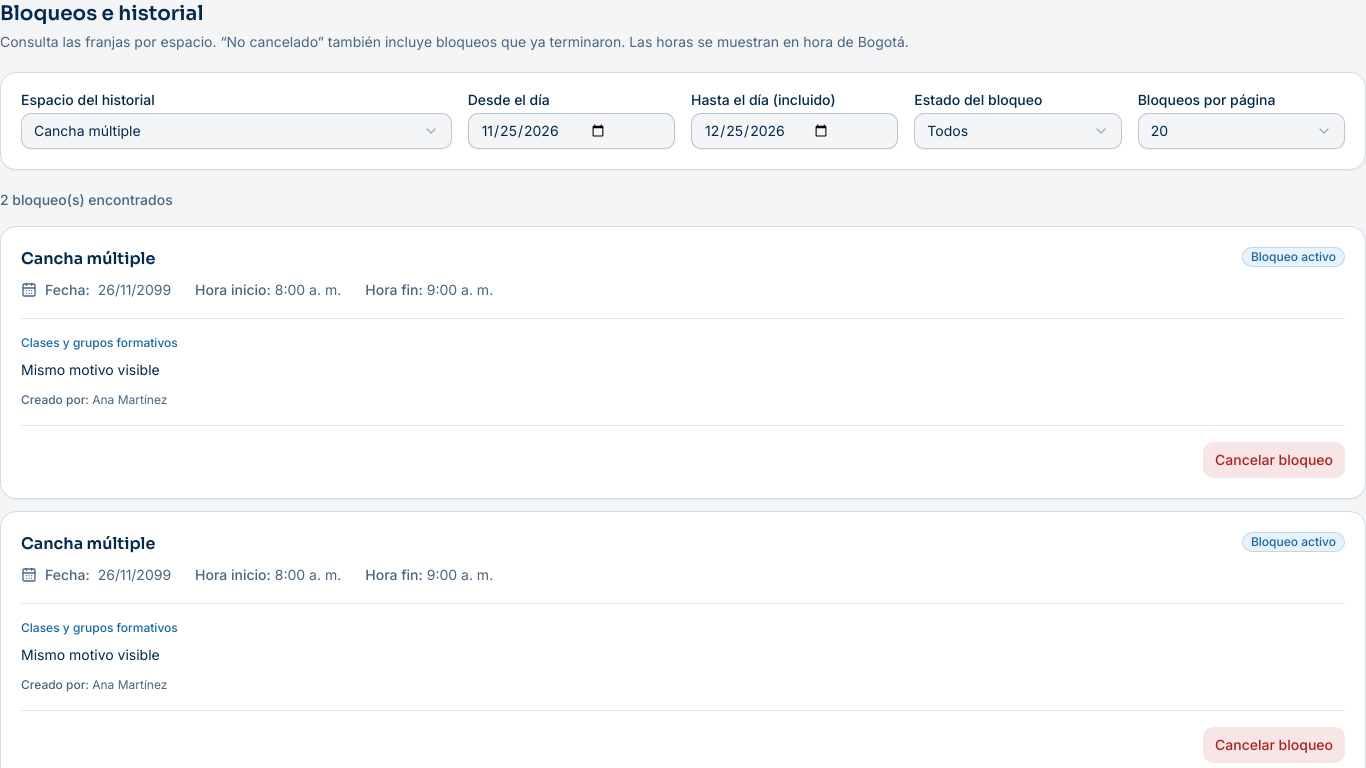
selecciona por ID, pide motivo y confirmación, y no libera franjas de forma optimista
The width and height of the screenshot is (1366, 768).
Click the 1st button "Cancelar bloqueo". click: {"x": 1274, "y": 460}
box: [1203,442,1345,478]
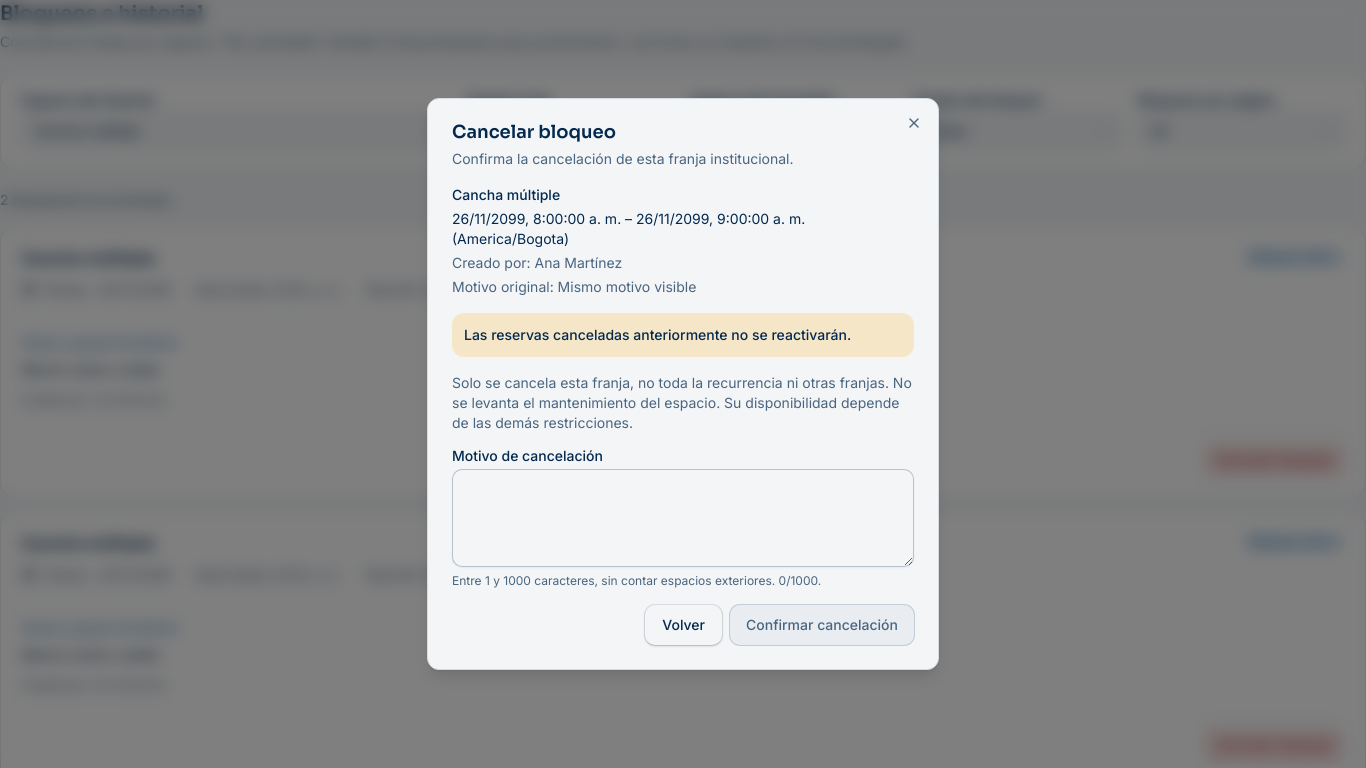
Check: the text "Creado por: Ana Martínez" is shown, box [452,254,622,271]
Check: the text "Las reservas canceladas anteriormente no se reactivarán." is shown, box [452,313,914,357]
Check: the text "no toda la recurrencia" is shown, box [452,374,912,431]
Type "  Clase suspendida  " into the text box labelled "Motivo de cancelación". click: {"x": 683, "y": 518}
box: [452,469,914,567]
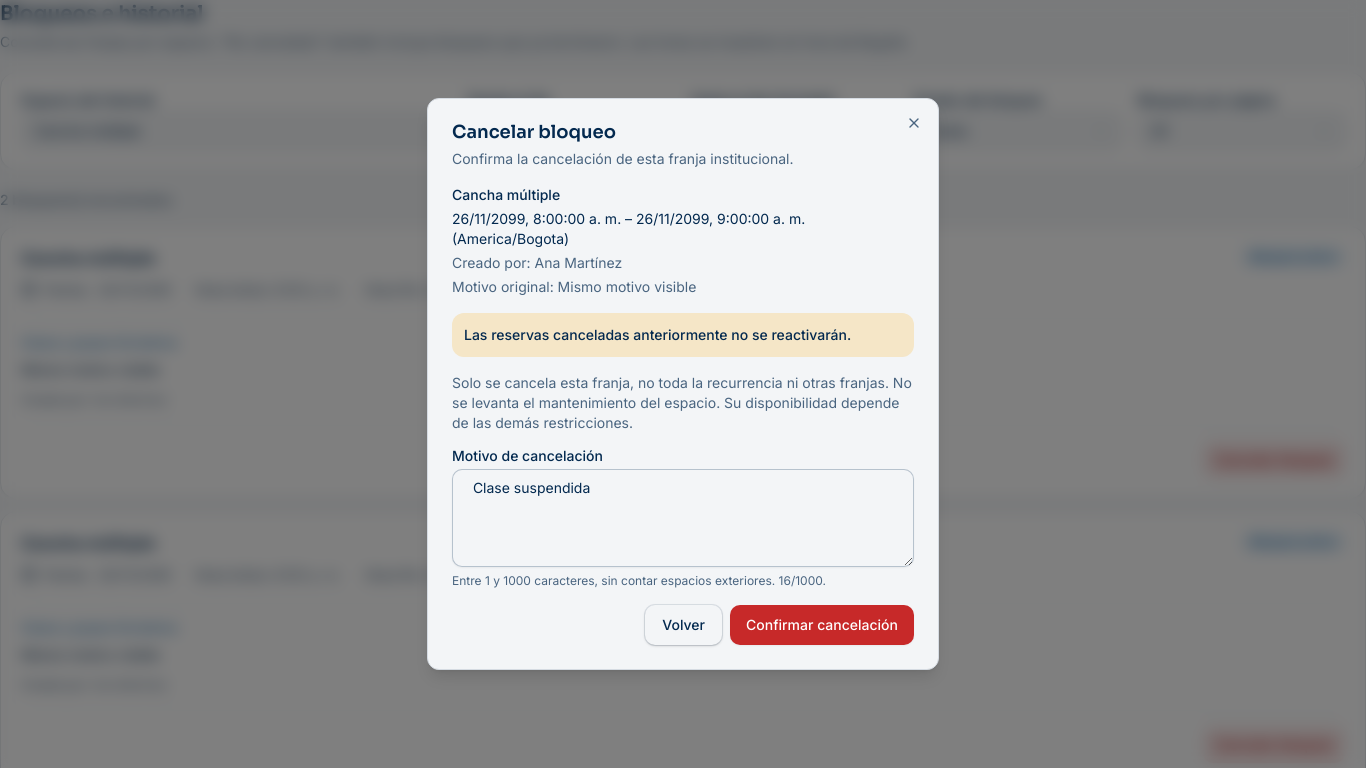
Click the button "Confirmar cancelación". click: {"x": 822, "y": 625}
box: [730,605,914,645]
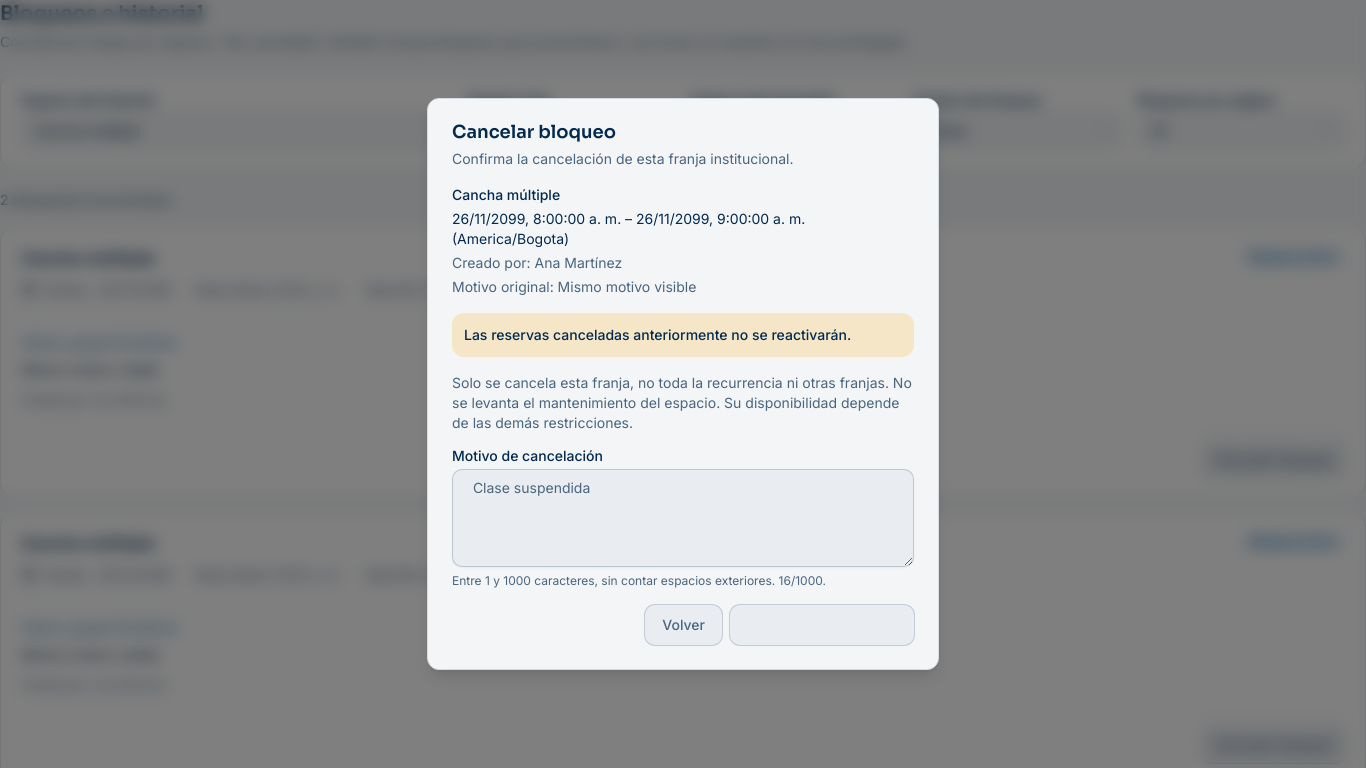
Submit the form named "Confirmar cancelación", box [452,185,914,645]
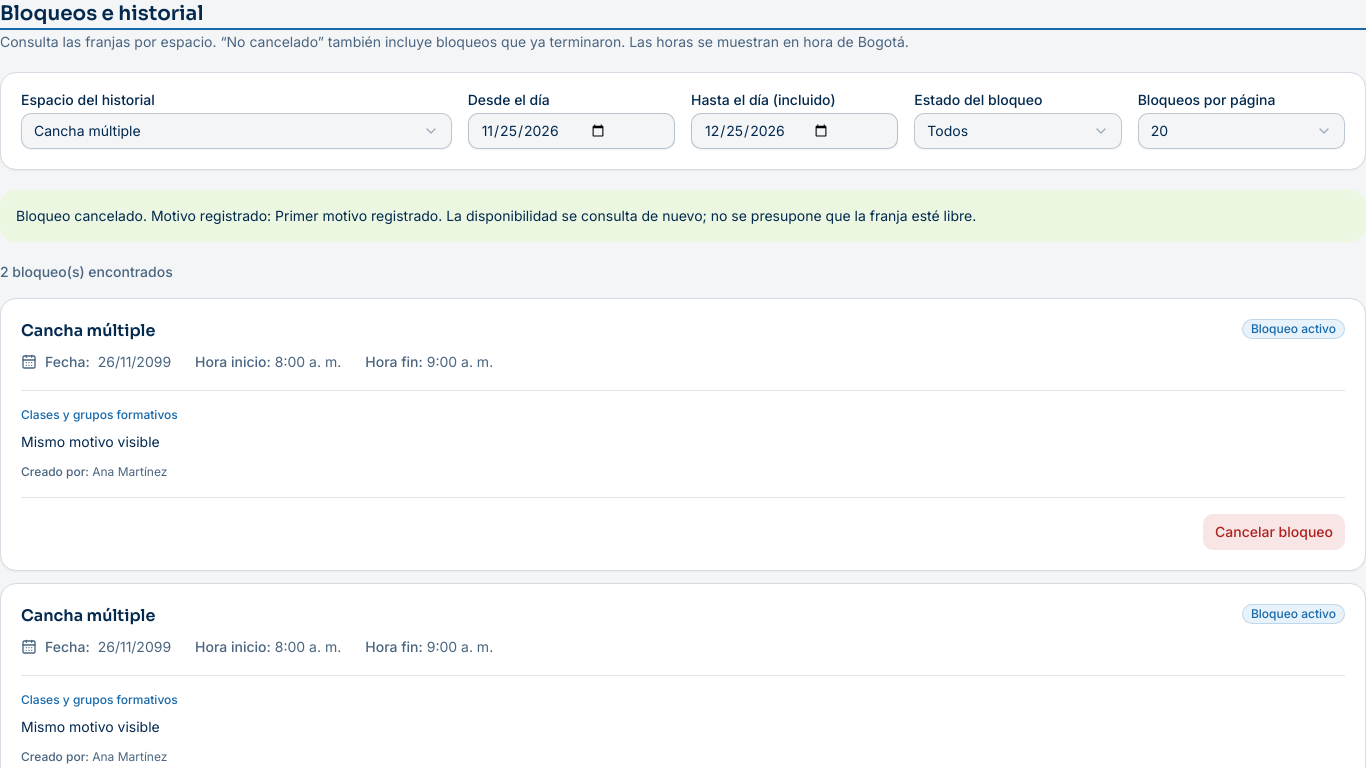
Check: the text "Motivo registrado: Primer motivo registrado" is shown, box [16,207,976,224]
